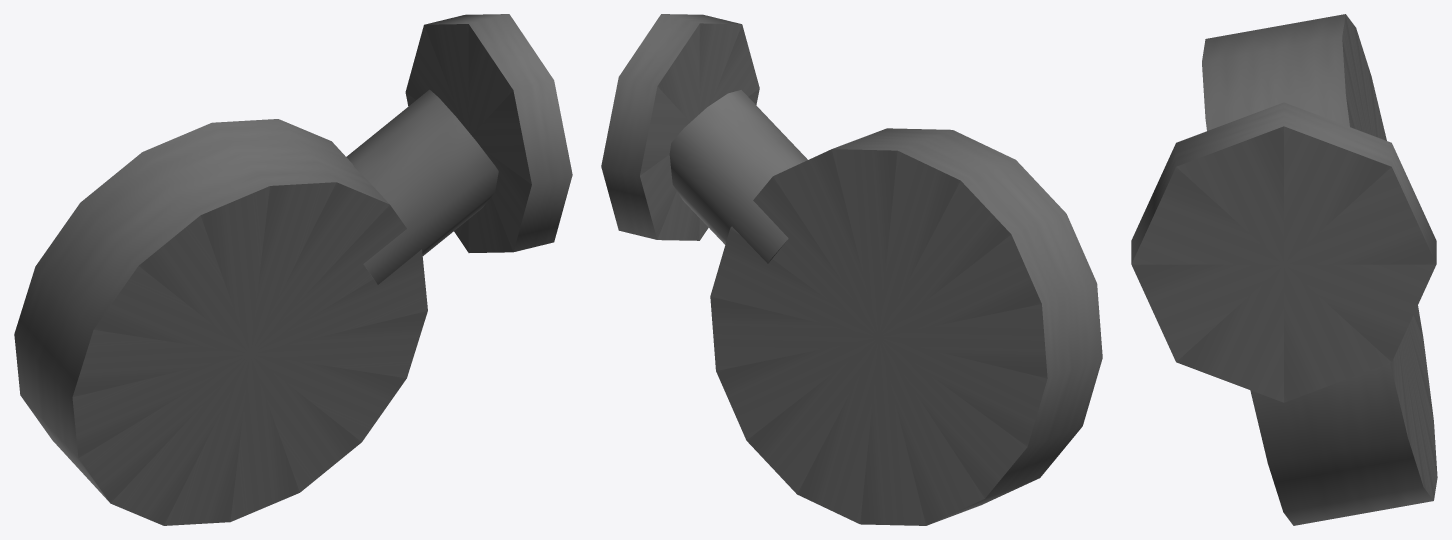
The model's file is mastarmcurve_5x1_c3_east.obj.
The picture shows the model from 3 angles, left to right: view 1: azimuth 30°, elevation 25°; view 2: azimuth 150°, elevation 25°; view 3: azimuth 270°, elevation 25°; orthographic projection. The views are drawn at different scales.
Visible parts, largest first — view 1: mastarm_5x1_c3_east; view 2: mastarm_5x1_c3_east; view 3: mastarm_5x1_c3_east.
Part boxes in pixels (x1,y1,x2,y2): mastarm_5x1_c3_east: [14, 14, 572, 525]; mastarm_5x1_c3_east: [601, 14, 1102, 525]; mastarm_5x1_c3_east: [1131, 14, 1437, 525].
Size of the model in its own units: 0.824 by 0.7773 by 0.4014.
